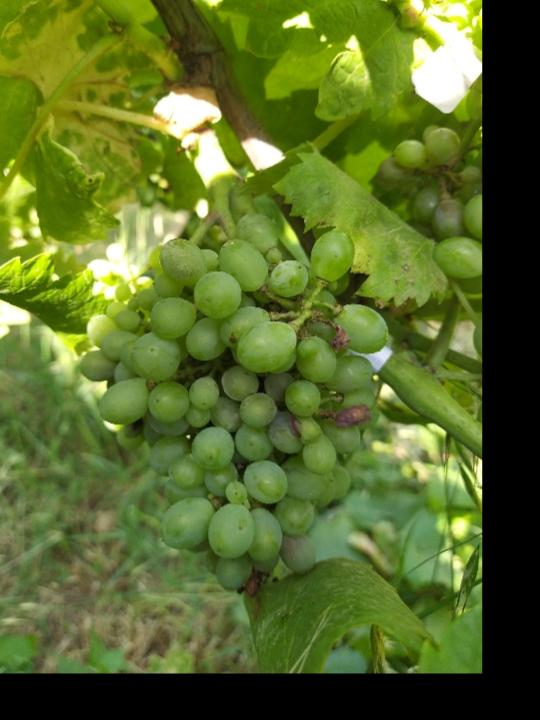grape: (72, 207, 388, 597)
